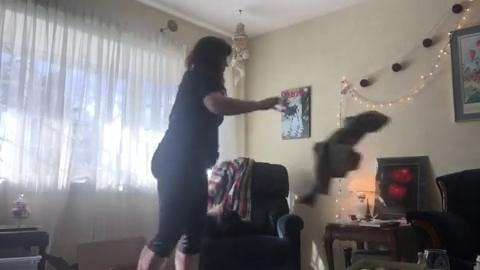blanket: (207, 156, 253, 222)
clothes: (295, 110, 389, 207)
light: (333, 1, 473, 223), (347, 176, 378, 219)
person: (135, 36, 290, 269)
picture: (373, 155, 427, 218), (448, 25, 479, 121), (279, 86, 311, 139)
sofa_couch: (200, 162, 303, 269), (405, 169, 479, 269)
table_desk: (323, 223, 417, 269), (1, 224, 49, 269)
